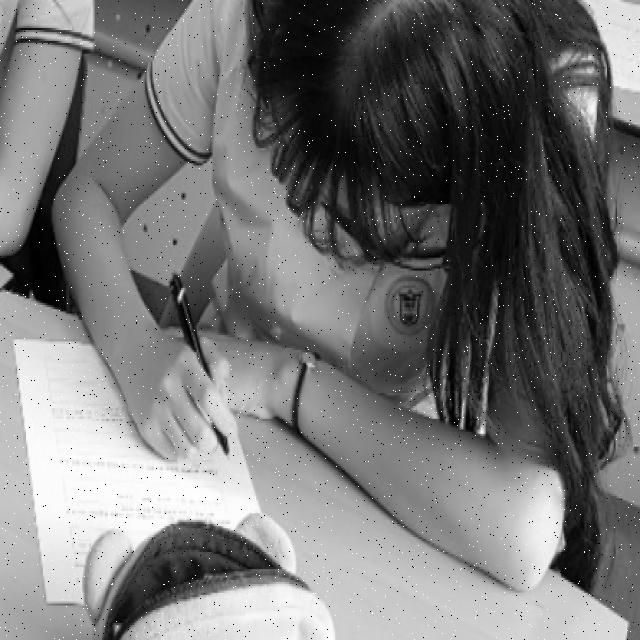logo: (383, 271, 437, 339)
